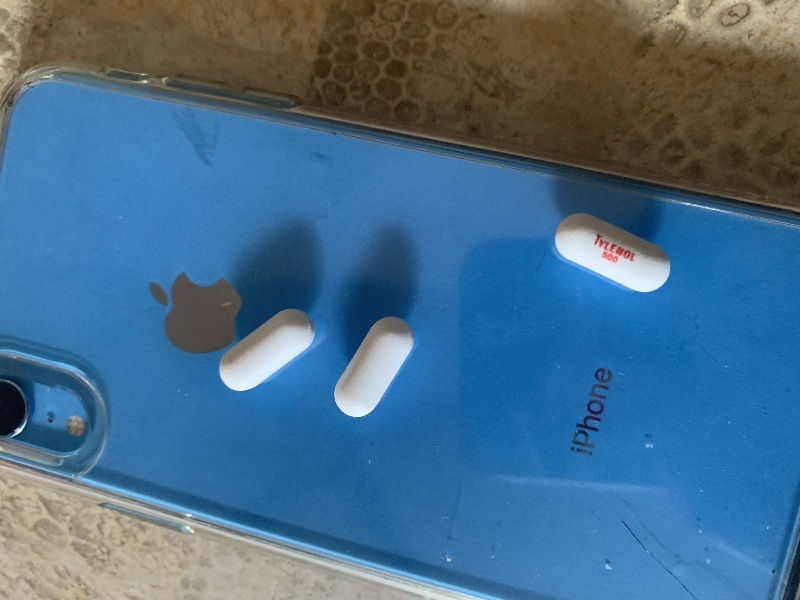Tylenol: (546, 206, 676, 297), (210, 292, 319, 397), (331, 312, 417, 422)
